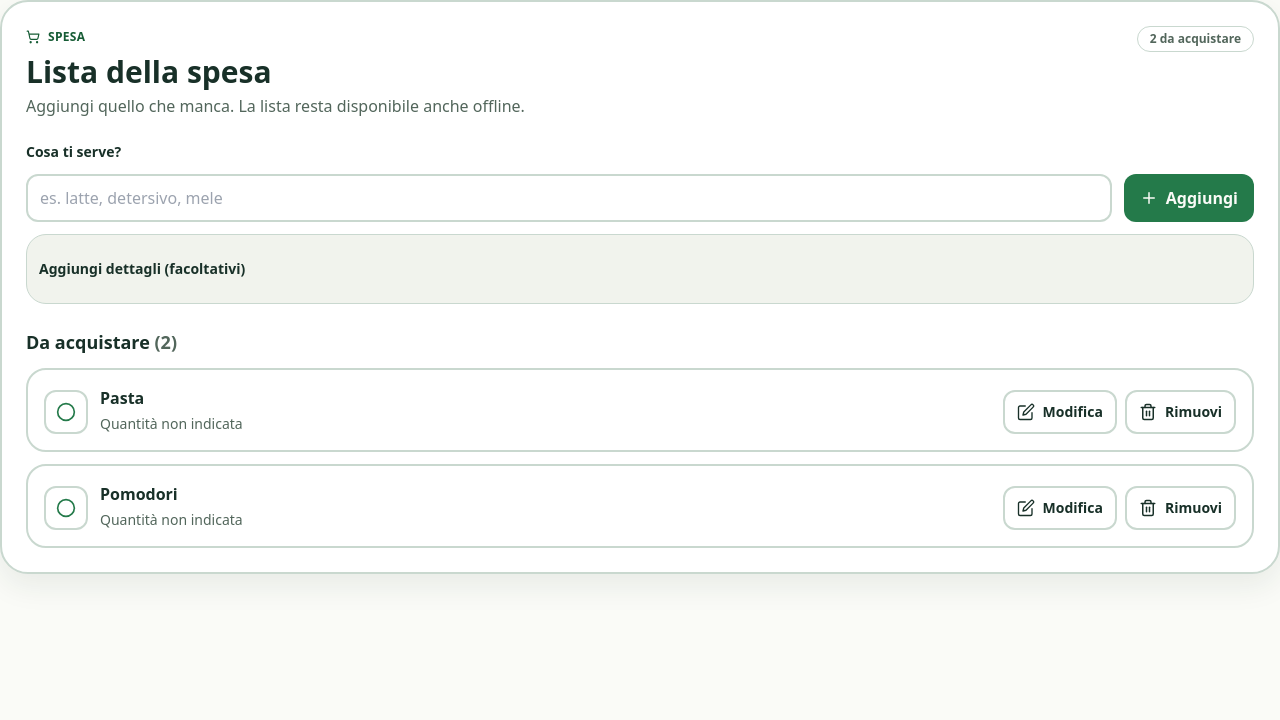
Scenario: ShoppingListPanel › ShoppingListPanel — chiarezza tasti azione e stati acquistati › espone l'etichetta visibile "Modifica" sul tasto azione di ogni riga
Expected: the text "Modifica" is shown 2 times, [1043, 402, 1103, 422]; [1043, 498, 1103, 518]
What coordinates should you click on to do the following:
click the button with aria-label "Modifica Pasta"
I would click on:
 (1060, 412)
Its box is [1003, 390, 1117, 434].
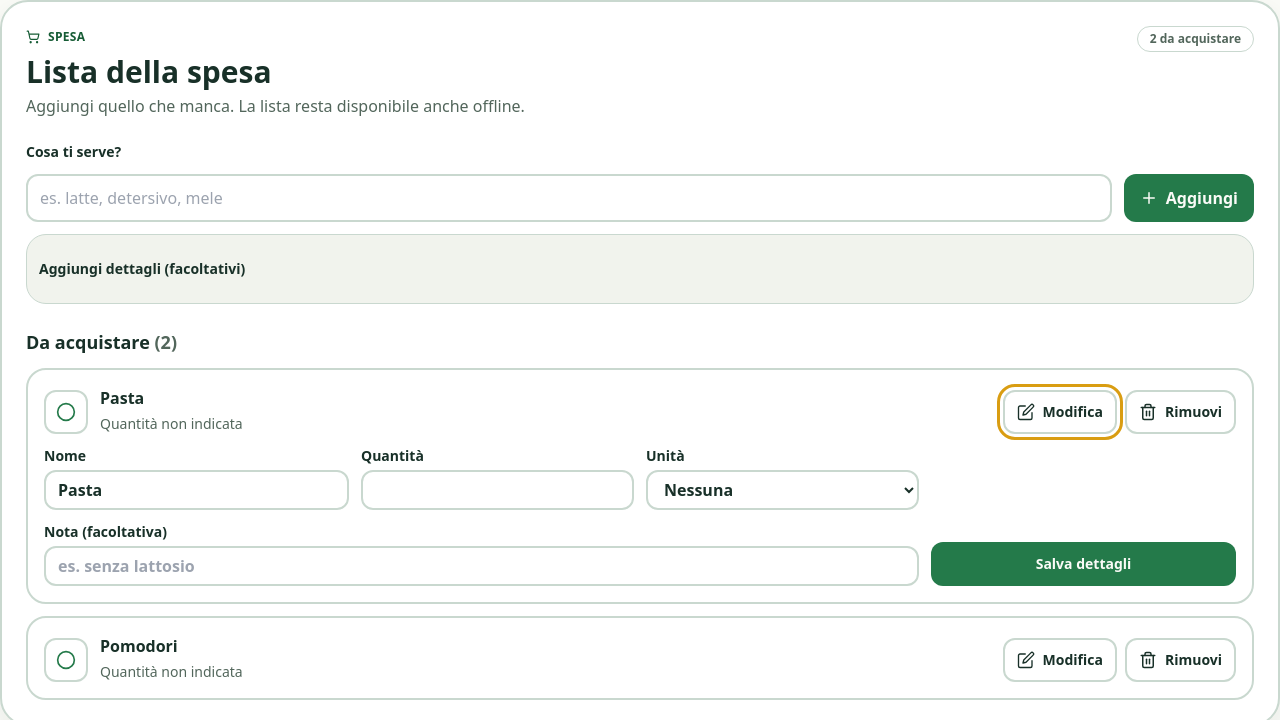
Expected: the field labelled "Nome" is shown, [44, 470, 349, 510]
